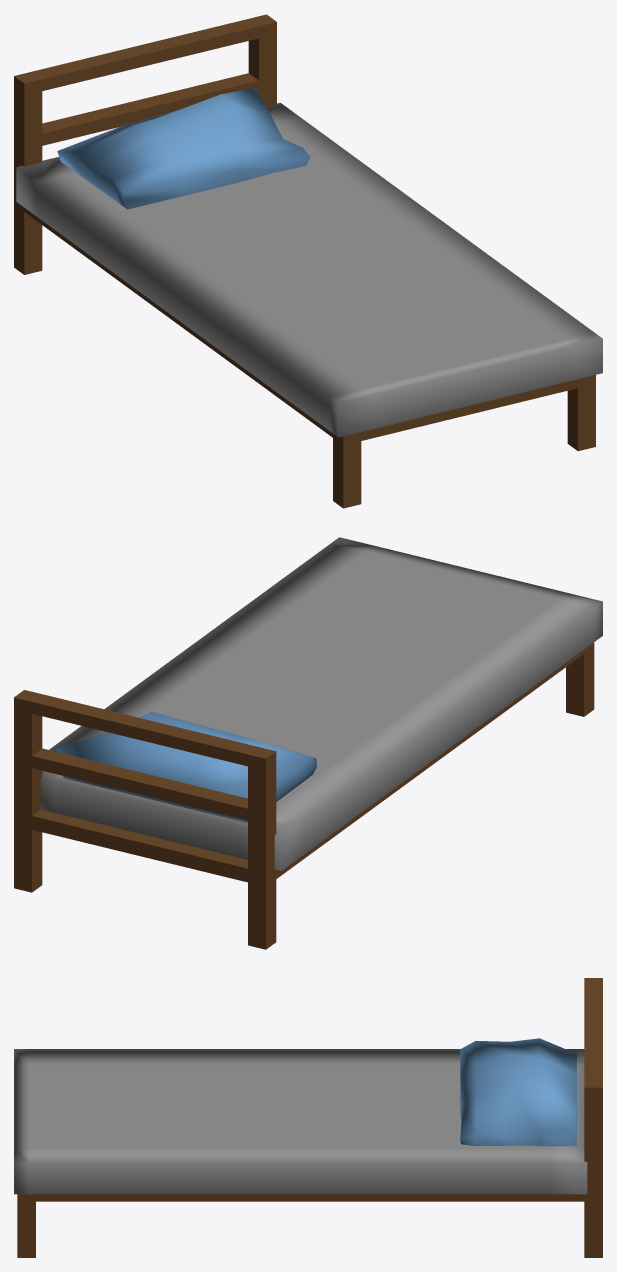
The model's file is Кровать.fbx.
The picture shows the model from 3 angles, top to bottom: view 1: azimuth 30°, elevation 25°; view 2: azimuth 150°, elevation 25°; view 3: azimuth 270°, elevation 25°; orthographic projection. The views are drawn at different scales.
Parts seen in each view (by area): view 1: Кровать; view 2: Кровать; view 3: Кровать.
Part boxes in pixels (left/top/right/bottom): Кровать: left=14, top=14, right=602, bottom=508; Кровать: left=14, top=537, right=602, bottom=949; Кровать: left=14, top=978, right=602, bottom=1257.
Size of the model in its own units: 1227 by 849 by 2664.
